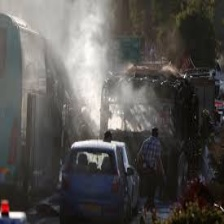smoke: (2, 1, 132, 127)
